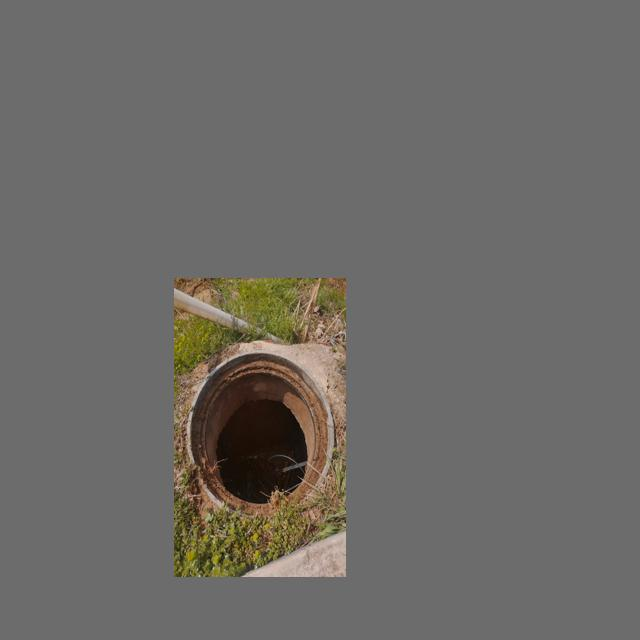lose: (188, 348, 335, 523)
